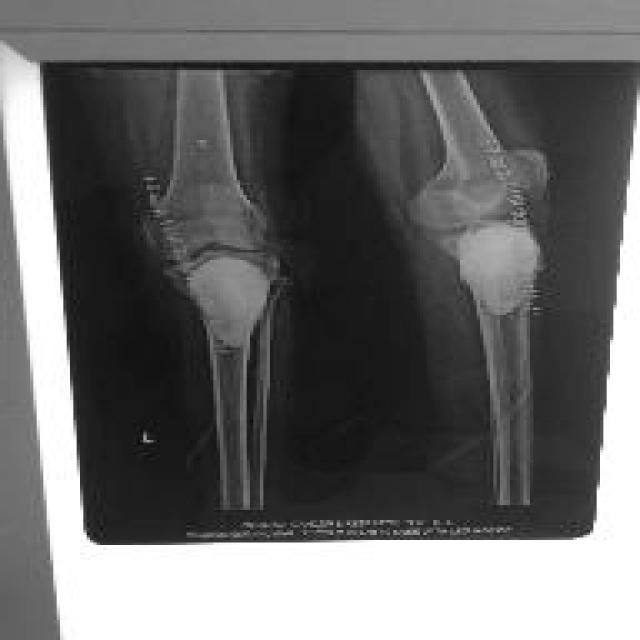bone-cancer: (458, 222, 544, 316), (187, 256, 270, 347)
